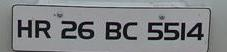2: (59, 16, 78, 43), (179, 20, 189, 42)
4: (187, 18, 204, 43)
5: (162, 17, 181, 44), (146, 20, 164, 43)
6: (77, 18, 98, 40)
B: (104, 19, 122, 43)
C: (123, 20, 140, 42)
H: (16, 18, 34, 41)
R: (34, 18, 54, 42)
